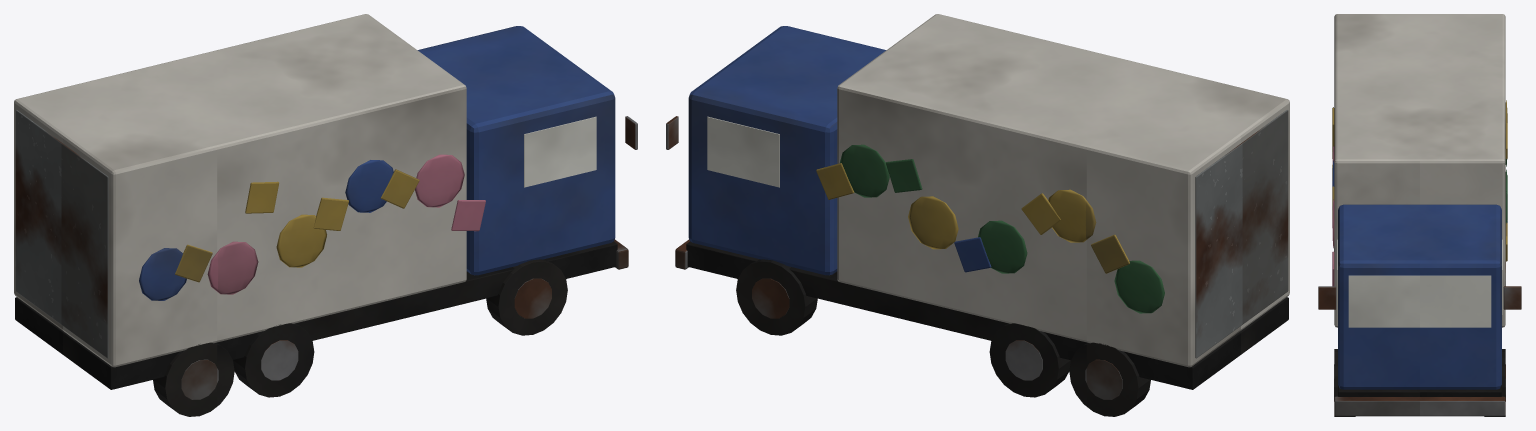
Rendered from V03_toy_delivery_truck.glb.
3 renders of one model, left to right at view 1: azimuth 30°, elevation 25°; view 2: azimuth 150°, elevation 25°; view 3: azimuth 270°, elevation 25°, orthographic. The views are drawn at different scales.
Parts seen in each view (by area): view 1: V03_toy_delivery_truck; view 2: V03_toy_delivery_truck; view 3: V03_toy_delivery_truck.
Boxes of the visible parts, x1=… form: V03_toy_delivery_truck: x1=14, y1=14, x2=637, y2=416; V03_toy_delivery_truck: x1=666, y1=14, x2=1289, y2=416; V03_toy_delivery_truck: x1=1318, y1=14, x2=1521, y2=416.
Size of the model in its own units: 7 by 3.43 by 2.79.
11 materials, 11 textured.
